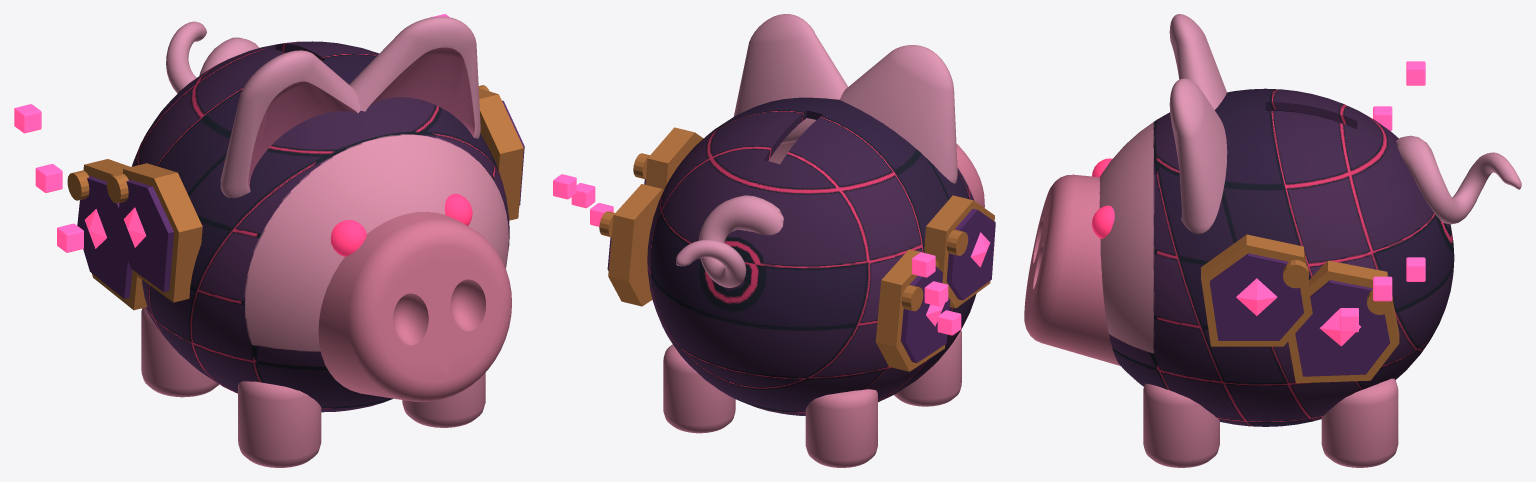
The model's file is finalboss-arcade-v1-complete.fbx.
3 renders of one model, left to right at view 1: azimuth 30°, elevation 25°; view 2: azimuth 150°, elevation 25°; view 3: azimuth 270°, elevation 25°, orthographic. The views are drawn at different scales.
Visible parts, largest first — view 1: Body, Snout, Ears, Legs, BossGuard_-1_0, BossInset_-1_0, BossInset_-1_1, BossGuard_1_0, Tail, EyePreview, BossGuard_-1_1, BossEnergy_-1_2 (+4 smaller); view 2: Body, Ears, Legs, Tail, BossGuard_1_1, BossGuard_-1_1, BossInset_-1_0, BossGuard_-1_0, BossInset_-1_1, BossGuard_1_0, Snout, BossEnergy_-1_0 (+6 smaller); view 3: Body, Snout, Legs, Ears, BossInset_1_1, BossInset_1_0, Tail, BossGuard_1_0, BossGuard_1_1, OrbitPrism_Boss_1_0, EyePreview, BossHinge_1_0 (+2 smaller).
Boxes of the visible parts, x1,y1,x2,y2 form: Body: (131,41,509,412); Snout: (318,211,511,401); Ears: (220,16,480,197); Legs: (141,307,485,467); BossGuard_-1_0: (122,163,202,302); BossInset_-1_0: (117,179,173,291); BossInset_-1_1: (77,175,132,298); BossGuard_1_0: (478,88,523,220); Tail: (166,21,259,93); EyePreview: (330,193,472,256); BossGuard_-1_1: (83,159,147,310); BossEnergy_-1_2: (14,104,41,133); Body: (647,97,976,415); Ears: (733,14,957,183); Legs: (663,330,961,467); Tail: (676,195,783,287); BossGuard_1_1: (608,184,663,306); BossGuard_-1_1: (875,249,945,371); BossInset_-1_0: (946,208,995,300); BossGuard_-1_0: (924,195,994,308); BossInset_-1_1: (900,266,950,362); BossGuard_1_0: (645,127,703,189); Snout: (956,143,984,207); BossEnergy_-1_0: (937,310,961,335); Body: (1099,88,1454,426); Snout: (1024,174,1120,365); Legs: (1143,378,1398,467); Ears: (1169,14,1227,233); BossInset_1_1: (1295,280,1389,376); BossInset_1_0: (1210,253,1303,340); Tail: (1396,135,1521,224); BossGuard_1_0: (1201,234,1312,346); BossGuard_1_1: (1288,260,1399,383); OrbitPrism_Boss_1_0: (1236,278,1277,315); EyePreview: (1092,158,1114,238); BossHinge_1_0: (1283,260,1308,288).
Size of the model in its own units: 1578 by 1397 by 1708.
Materials: 6 (2 with a texture image).
